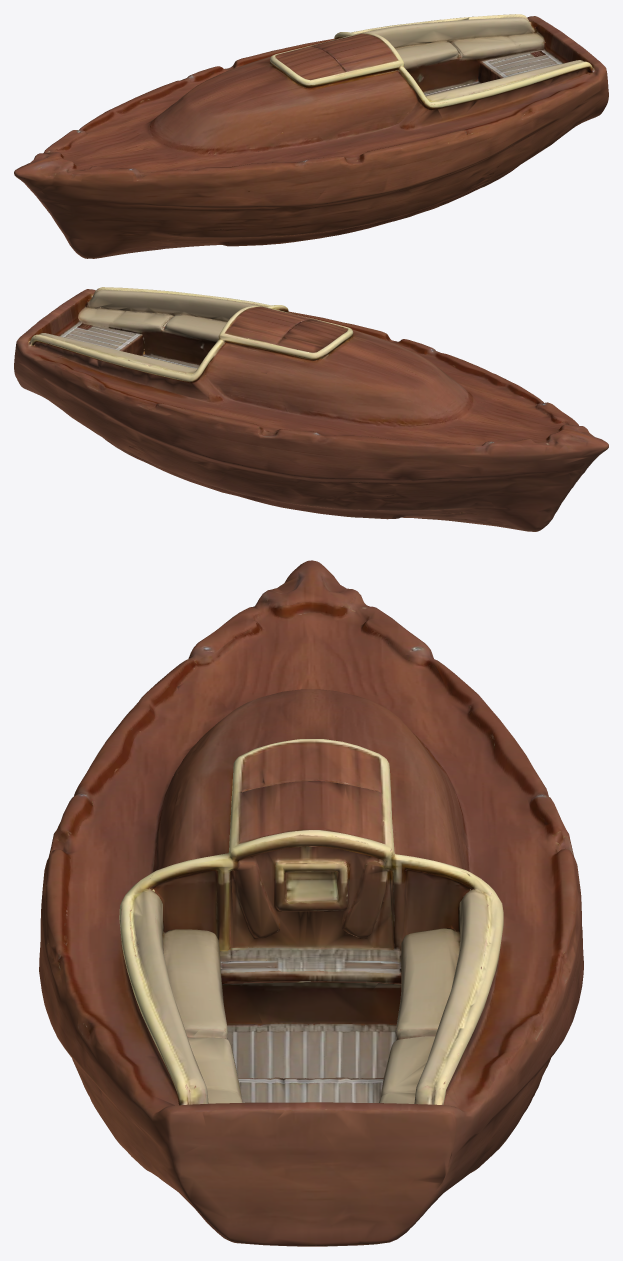
File: model_lowpoly_optimized.glb
3 views of the same model, one above another, from view 1: azimuth 30°, elevation 25°; view 2: azimuth 150°, elevation 25°; view 3: azimuth 270°, elevation 25° (orthographic). The views are drawn at different scales.
Size of what is drawn, in the model's own units: 2 by 0.5608 by 0.8338.
Materials: 1 (1 with a texture image).
